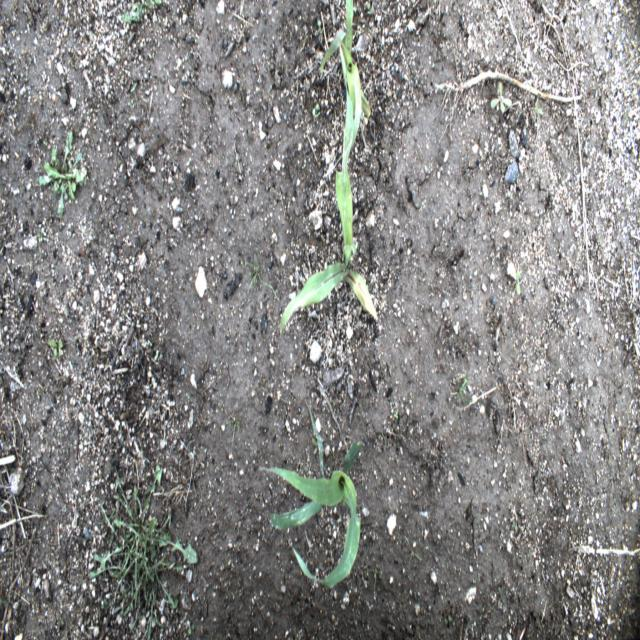crop: (280, 40, 379, 332), (268, 409, 364, 590), (319, 0, 372, 148)
weed: (88, 464, 198, 640), (37, 127, 88, 219), (238, 245, 280, 303), (120, 0, 164, 26), (453, 368, 475, 404), (367, 549, 386, 588), (490, 82, 512, 112), (404, 534, 421, 571), (224, 416, 241, 449), (48, 335, 64, 361), (528, 97, 543, 118), (35, 226, 49, 246), (514, 268, 522, 297), (100, 596, 110, 612), (311, 102, 321, 118), (316, 18, 324, 36), (187, 621, 196, 636), (443, 612, 452, 627), (0, 591, 8, 607), (129, 82, 138, 95), (381, 430, 387, 449), (366, 2, 374, 15), (511, 519, 518, 533), (393, 409, 399, 422), (35, 389, 41, 402), (358, 24, 365, 34), (130, 97, 135, 110), (42, 140, 49, 149), (185, 391, 191, 401), (315, 111, 321, 119), (213, 171, 217, 181), (482, 602, 486, 612), (379, 38, 383, 46), (235, 157, 237, 167)
